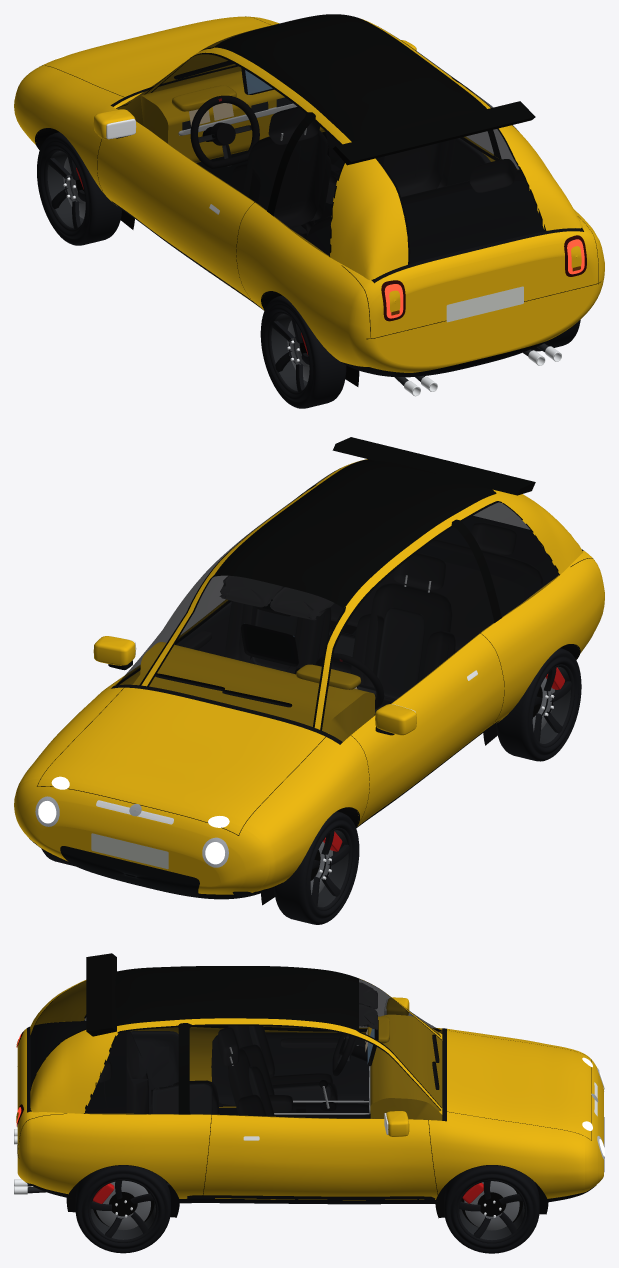
The model's file is car_hornet.glb.
3 views of the same model, one above another, from view 1: azimuth 30°, elevation 25°; view 2: azimuth 150°, elevation 25°; view 3: azimuth 270°, elevation 25° (orthographic). The views are drawn at different scales.
Visible parts, largest first — view 1: Body, Glass, Interior, Wheel_RL, Wheel_FL, SteeringWheel, Lights_Tail; view 2: Body, Glass, Interior, Wheel_RL, Wheel_FL, Lights_Head, SteeringWheel; view 3: Body, Glass, Interior, Wheel_FR, Wheel_RR, SteeringWheel.
Boxes of the visible parts, x1,y1,x2,y2 form: Body: (14, 14, 604, 396); Glass: (116, 16, 544, 263); Interior: (118, 41, 524, 237); Wheel_RL: (260, 295, 346, 408); Wheel_FL: (37, 132, 122, 245); SteeringWheel: (190, 95, 259, 168); Lights_Tail: (384, 239, 584, 318); Body: (14, 437, 604, 905); Glass: (116, 468, 559, 741); Interior: (133, 522, 542, 741); Wheel_RL: (496, 648, 581, 761); Wheel_FL: (274, 811, 359, 924); Lights_Head: (38, 776, 229, 864); SteeringWheel: (316, 653, 384, 709); Body: (14, 953, 604, 1218); Glass: (30, 978, 442, 1120); Interior: (98, 982, 442, 1201); Wheel_FR: (444, 1165, 539, 1253); Wheel_RR: (75, 1165, 170, 1253); SteeringWheel: (332, 1033, 367, 1075).
Bounding box in the file's own units: 1.88 × 1.49 × 3.69.
